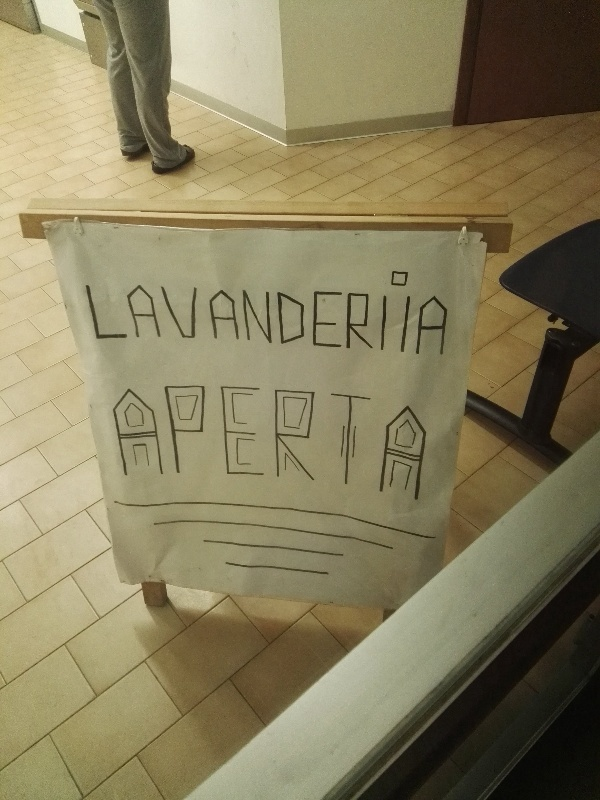text: (401, 400, 416, 508), (225, 383, 240, 488), (241, 383, 256, 488), (257, 383, 272, 488), (273, 383, 288, 488), (289, 383, 304, 488), (337, 391, 352, 495), (353, 391, 368, 495), (113, 382, 128, 480), (129, 382, 144, 480), (145, 382, 160, 480), (161, 382, 176, 480), (177, 382, 192, 480), (417, 400, 430, 508), (193, 382, 207, 480), (388, 400, 400, 508), (305, 383, 316, 488), (321, 286, 336, 358), (337, 286, 352, 358), (353, 286, 368, 358), (369, 286, 384, 358), (289, 289, 305, 352), (417, 294, 432, 359), (433, 294, 448, 359), (209, 289, 224, 352), (225, 289, 240, 352), (241, 289, 256, 352), (257, 289, 272, 352), (273, 289, 288, 352), (97, 283, 112, 344), (113, 283, 128, 344), (129, 283, 144, 344), (145, 283, 160, 344), (161, 283, 176, 344), (177, 283, 192, 344), (83, 283, 96, 344), (407, 294, 416, 359), (331, 391, 336, 495), (314, 286, 320, 358), (220, 383, 224, 488), (108, 382, 112, 480), (193, 283, 199, 344), (369, 391, 372, 495), (385, 286, 389, 358), (206, 289, 208, 352), (449, 294, 450, 359)
